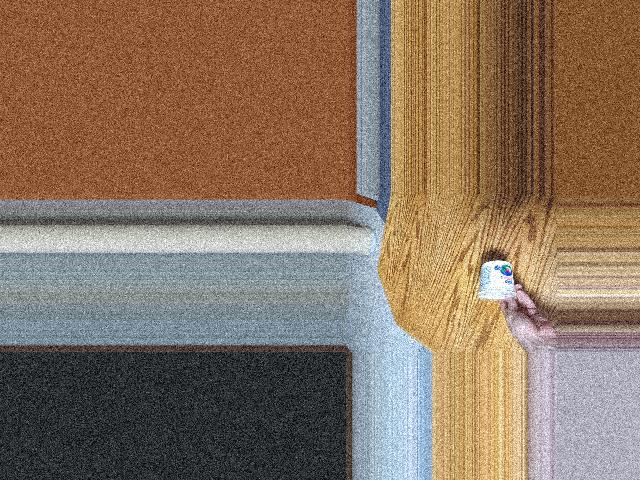cotage: (473, 262, 518, 301)
